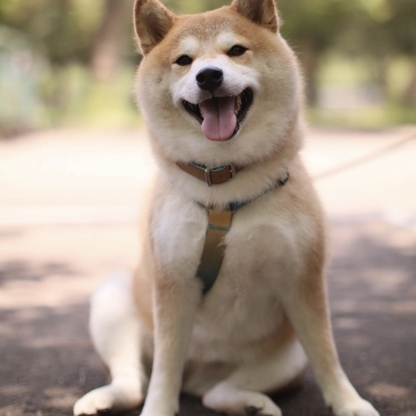shiba: (58, 1, 386, 416)
